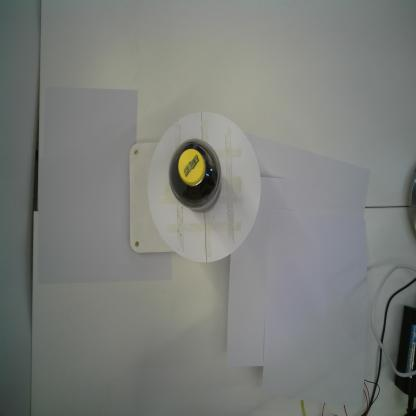Drink: (168, 136, 224, 216)
